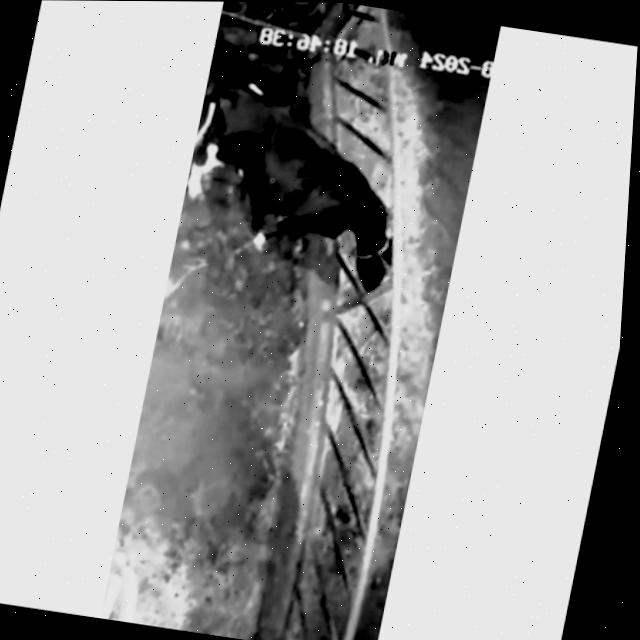eat: (265, 162, 471, 320)
